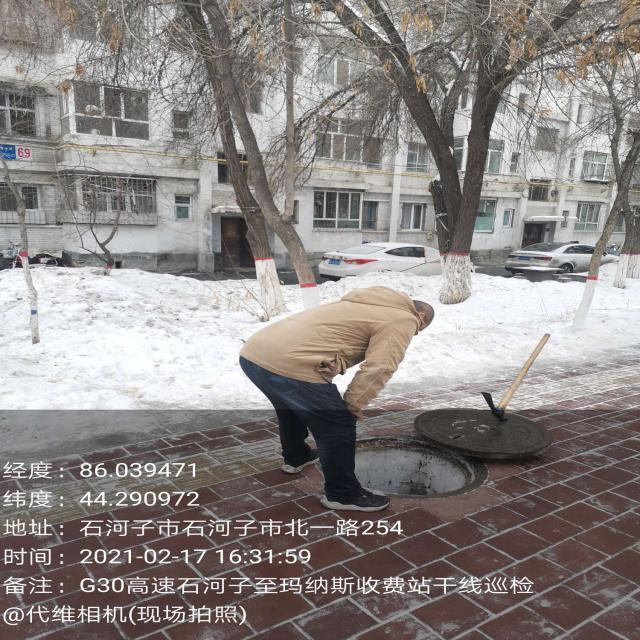manhole: (351, 408, 550, 509)
